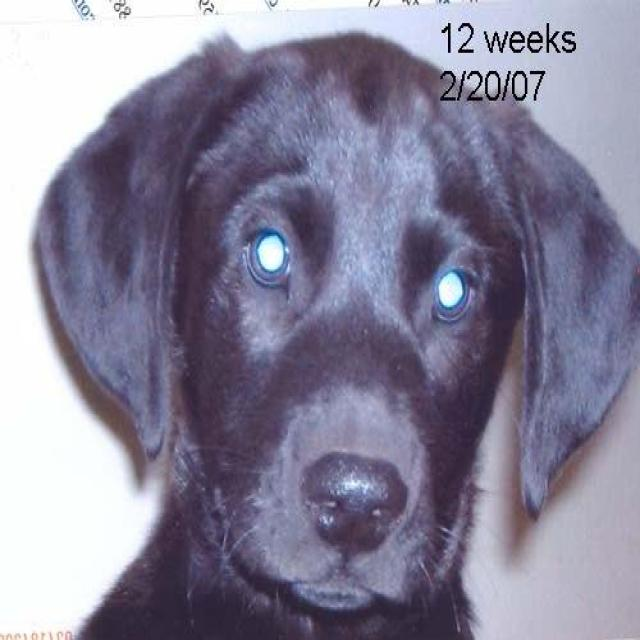Dogs: (28, 28, 639, 638)
